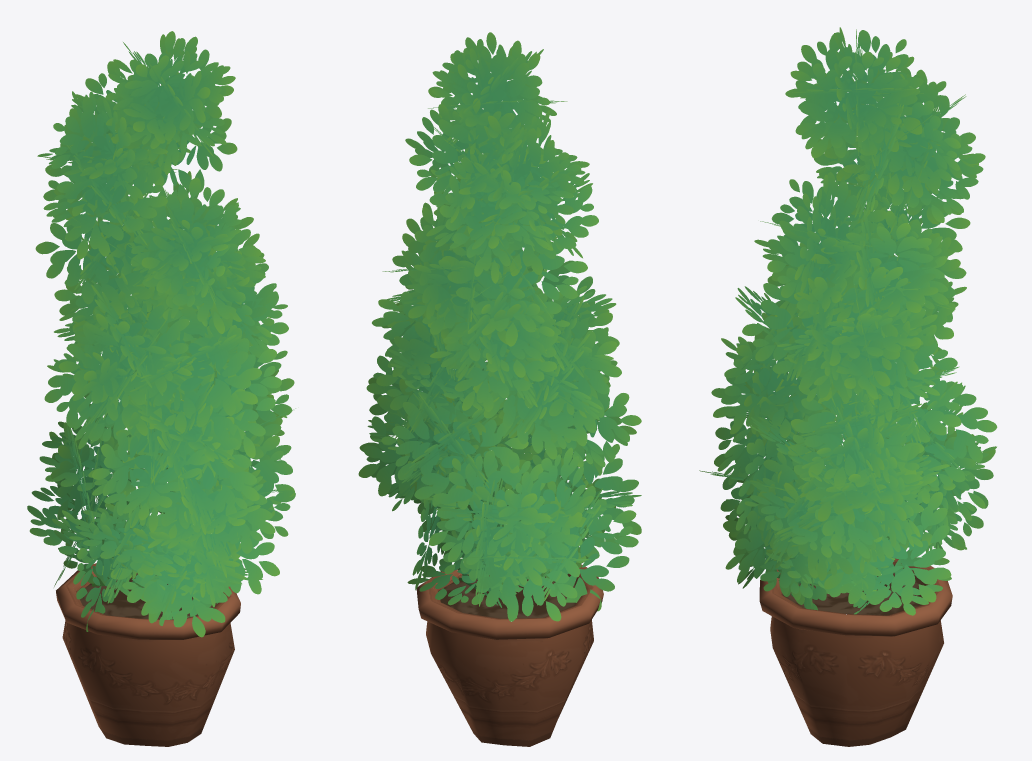
File: SM_PROP_plant_pot_city_05.fbx
3 views of the same model, side by side, from view 1: azimuth 30°, elevation 25°; view 2: azimuth 150°, elevation 25°; view 3: azimuth 270°, elevation 25° (orthographic). The views are drawn at different scales.
Parts seen in each view (by area): view 1: SM_PROP_plant_pot_city_05_foliage, SM_PROP_plant_pot_city_05; view 2: SM_PROP_plant_pot_city_05_foliage, SM_PROP_plant_pot_city_05; view 3: SM_PROP_plant_pot_city_05_foliage, SM_PROP_plant_pot_city_05.
Part boxes in pixels (bbox=[...]): SM_PROP_plant_pot_city_05_foliage: bbox=[27, 31, 295, 637]; SM_PROP_plant_pot_city_05: bbox=[56, 563, 240, 746]; SM_PROP_plant_pot_city_05_foliage: bbox=[358, 32, 641, 621]; SM_PROP_plant_pot_city_05: bbox=[416, 564, 603, 746]; SM_PROP_plant_pot_city_05_foliage: bbox=[699, 27, 997, 615]; SM_PROP_plant_pot_city_05: bbox=[759, 557, 952, 746].
Bounding box in the file's own units: 98.87 × 246 × 102.
